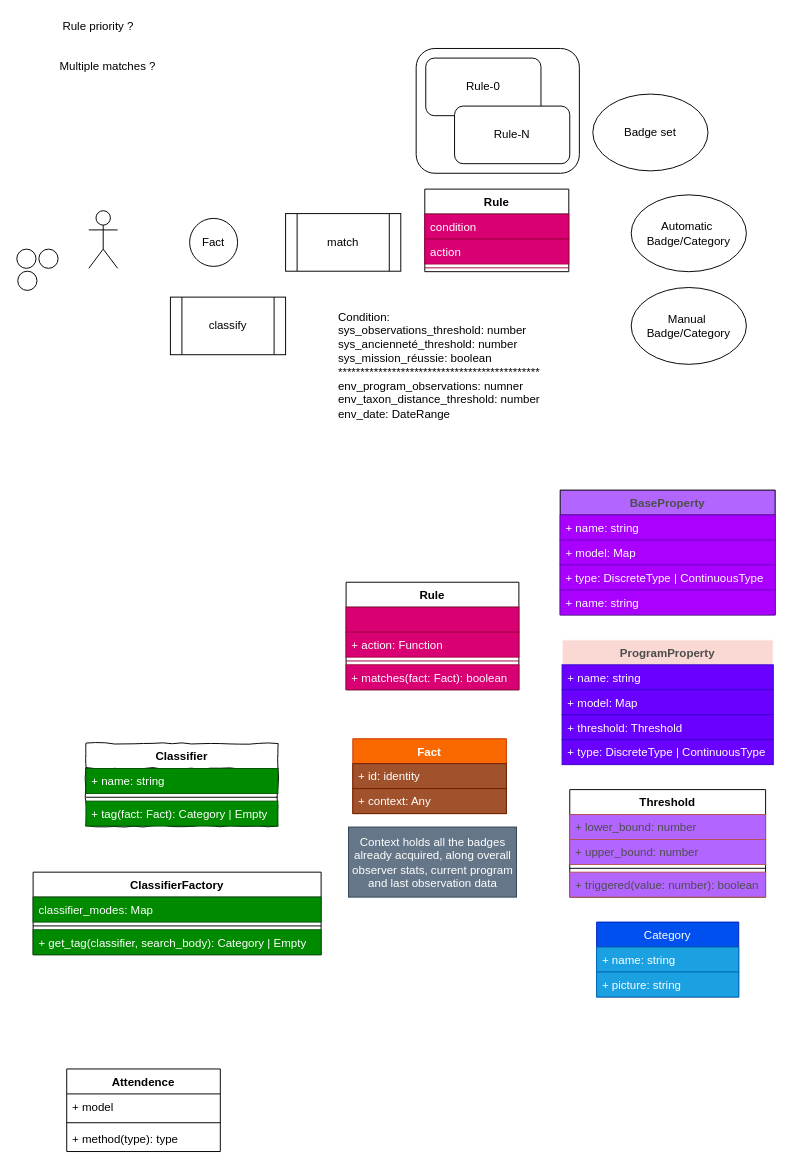
The diagram is 792 pixels wide and 1171 high, and some of its shapes have lost their labels. The centre of each missing label's shape, as x and y in pixels:
"+ condition: Function" goes at [432,619].
"Actor" goes at [103,239].
